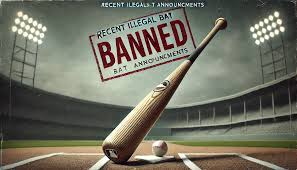baseball bat: (100, 17, 228, 165)
